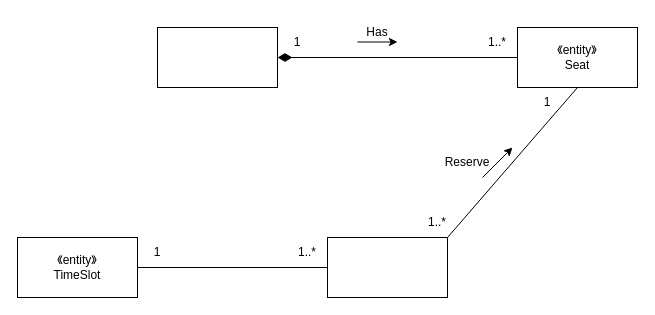
The diagram is 655 pixels wide and 315 high, and some of its shapes have lost their labels. Each missing label, with the centre of its shape:
"《entity》 ReservationSlot" goes at point 387,267.
"《entity》 StudyRoom" goes at point 217,57.
